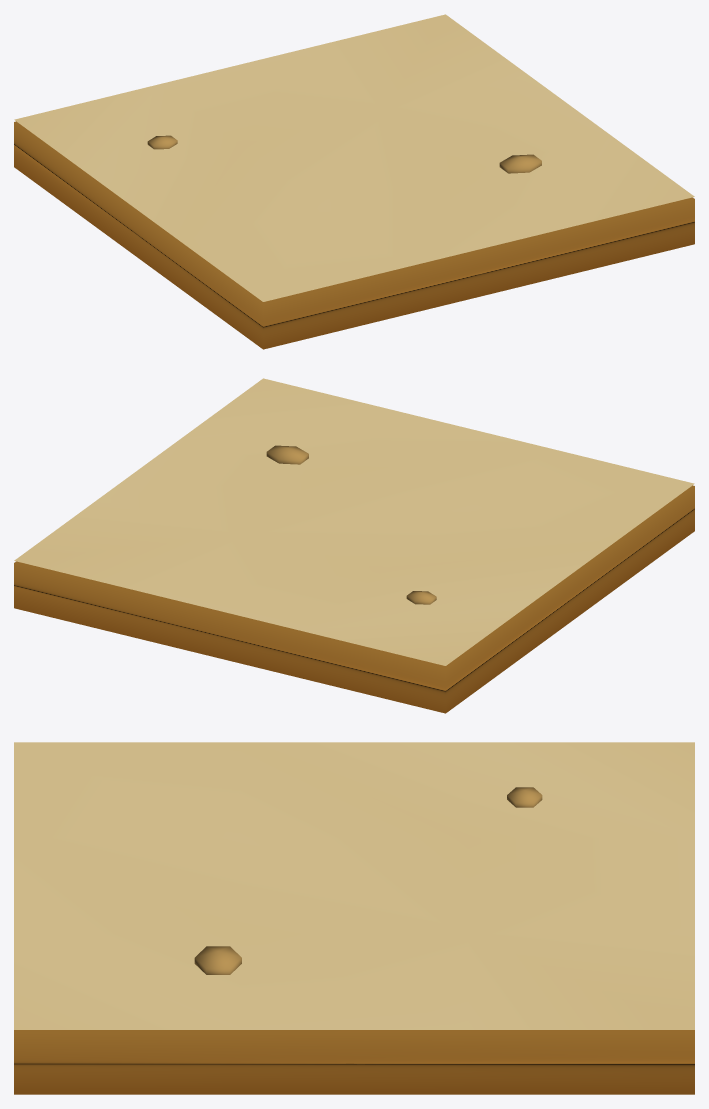
The model's file is tile_sand.glb.
3 views of the same model, one above another, from view 1: azimuth 30°, elevation 25°; view 2: azimuth 150°, elevation 25°; view 3: azimuth 270°, elevation 25° (orthographic). The views are drawn at different scales.
Parts seen in each view (by area): view 1: Tile.001; view 2: Tile.001; view 3: Tile.001.
Part boxes in pixels (box(x1,y1,x2,y2)): Tile.001: box(14, 14, 694, 349); Tile.001: box(14, 378, 694, 713); Tile.001: box(14, 742, 694, 1094).
Size of the model in its own units: 1 by 0.125 by 1.
